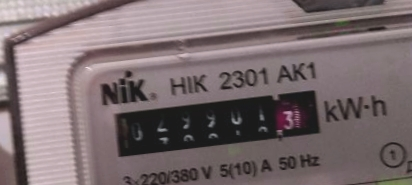0: (226, 100, 243, 126), (127, 118, 145, 141)
1: (251, 98, 267, 123)
2: (151, 113, 169, 133)
3: (279, 106, 295, 129)
9: (202, 105, 218, 128), (177, 108, 191, 131)
screen: (99, 77, 331, 167)
